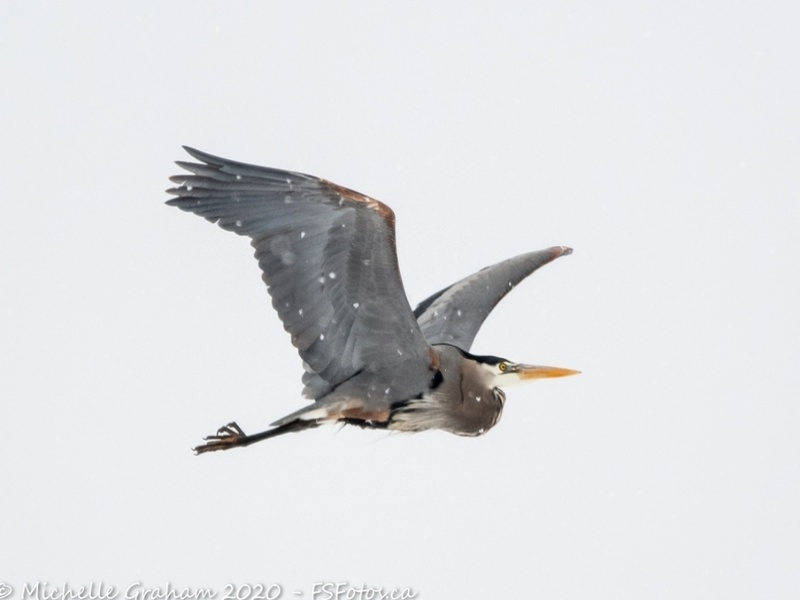heron: (164, 135, 588, 475)
